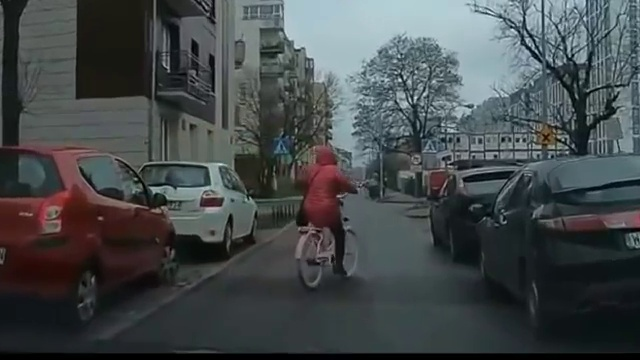cyclist_back: (296, 142, 362, 287)
